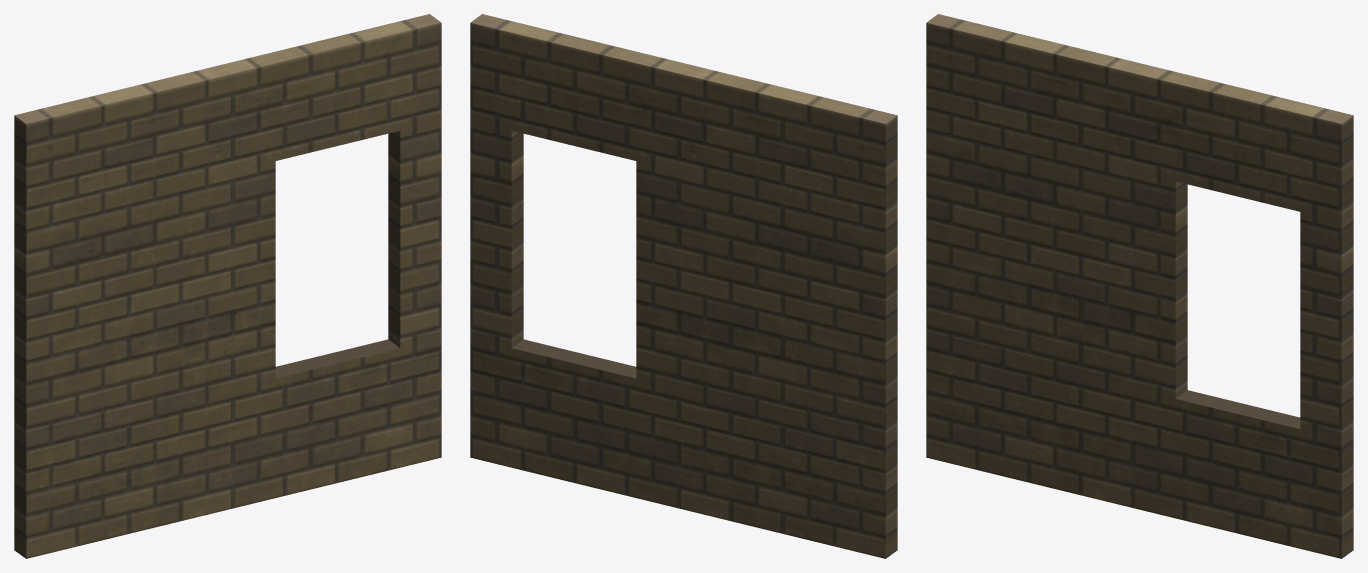
Rendered from wall6_7.fbx.
3 views of the same model, side by side, from view 1: azimuth 30°, elevation 25°; view 2: azimuth 150°, elevation 25°; view 3: azimuth 330°, elevation 25° (orthographic).
Visible parts, largest first — view 1: wall6_brick_sand_g; view 2: wall6_brick_sand_g; view 3: wall6_brick_sand_g.
Boxes of the visible parts, x1,y1,x2,y2 form: wall6_brick_sand_g: [14, 14, 441, 558]; wall6_brick_sand_g: [470, 14, 897, 558]; wall6_brick_sand_g: [926, 14, 1353, 558].
Bounding box in the file's own units: 400 × 400 × 20.
